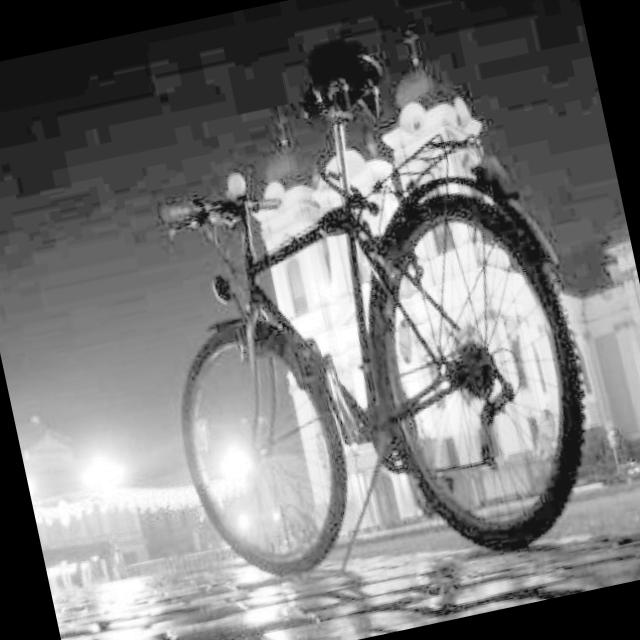Bicycle: (120, 114, 586, 598)
